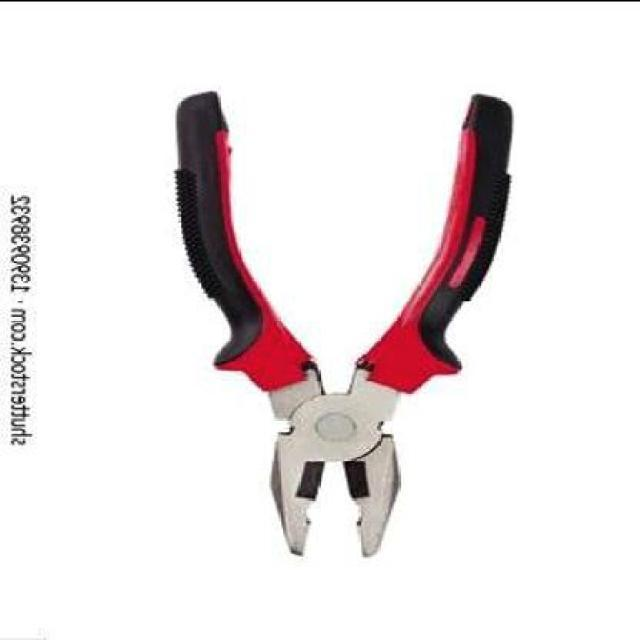pliers: (170, 91, 524, 576)
